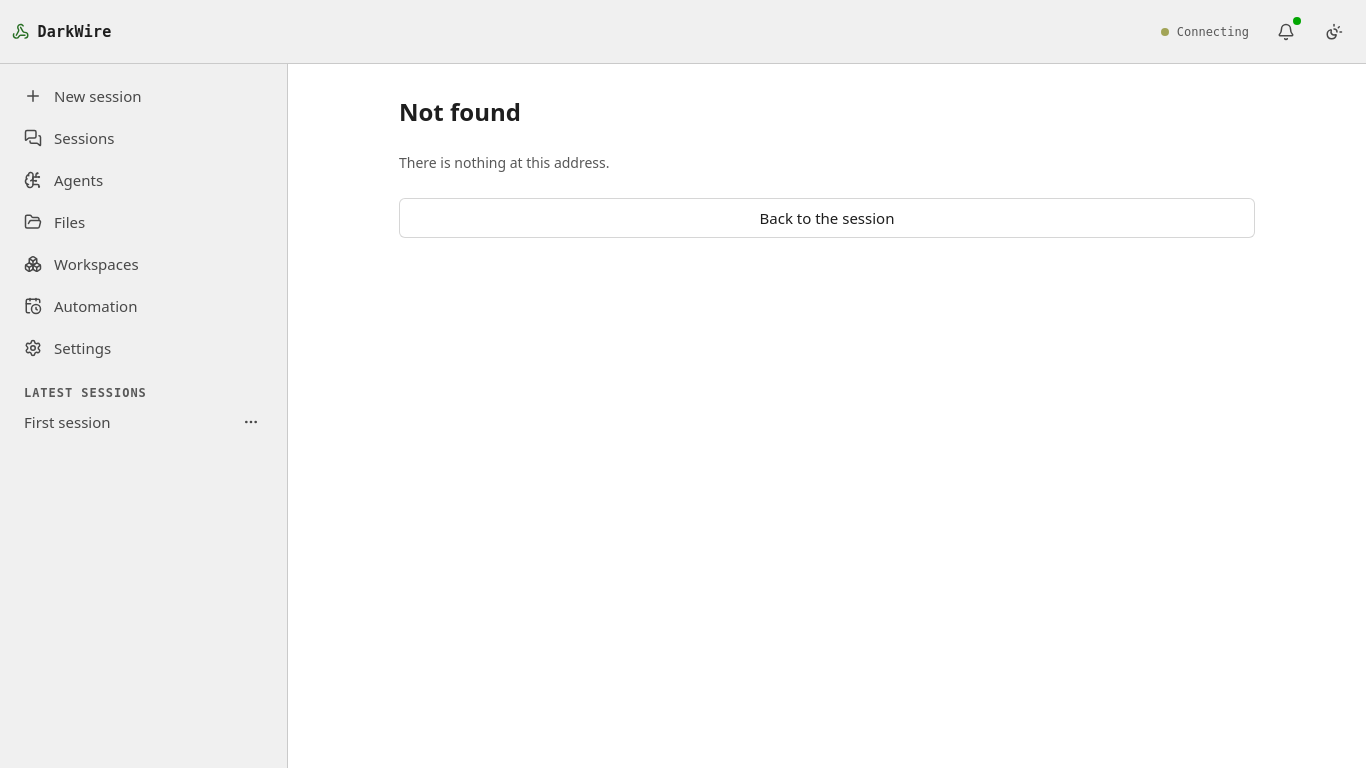
Test: the shell › answers an unknown address with a way back
Check: the heading "Not found" is shown, box [399,95,521,128]
Click the link "Back to the session": point(827, 218) [399,198,1255,238]
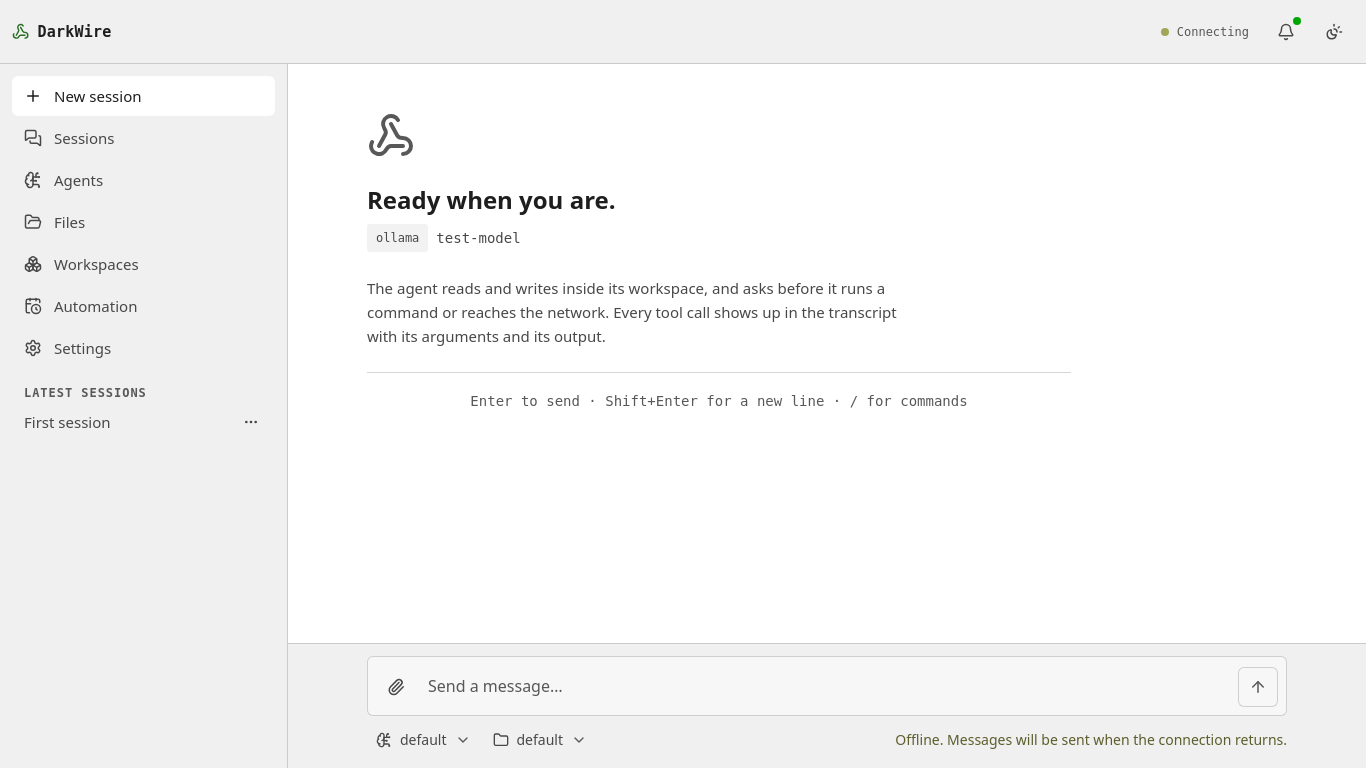
Check: the heading "Ready when you are." is shown, box [367,183,616,216]
